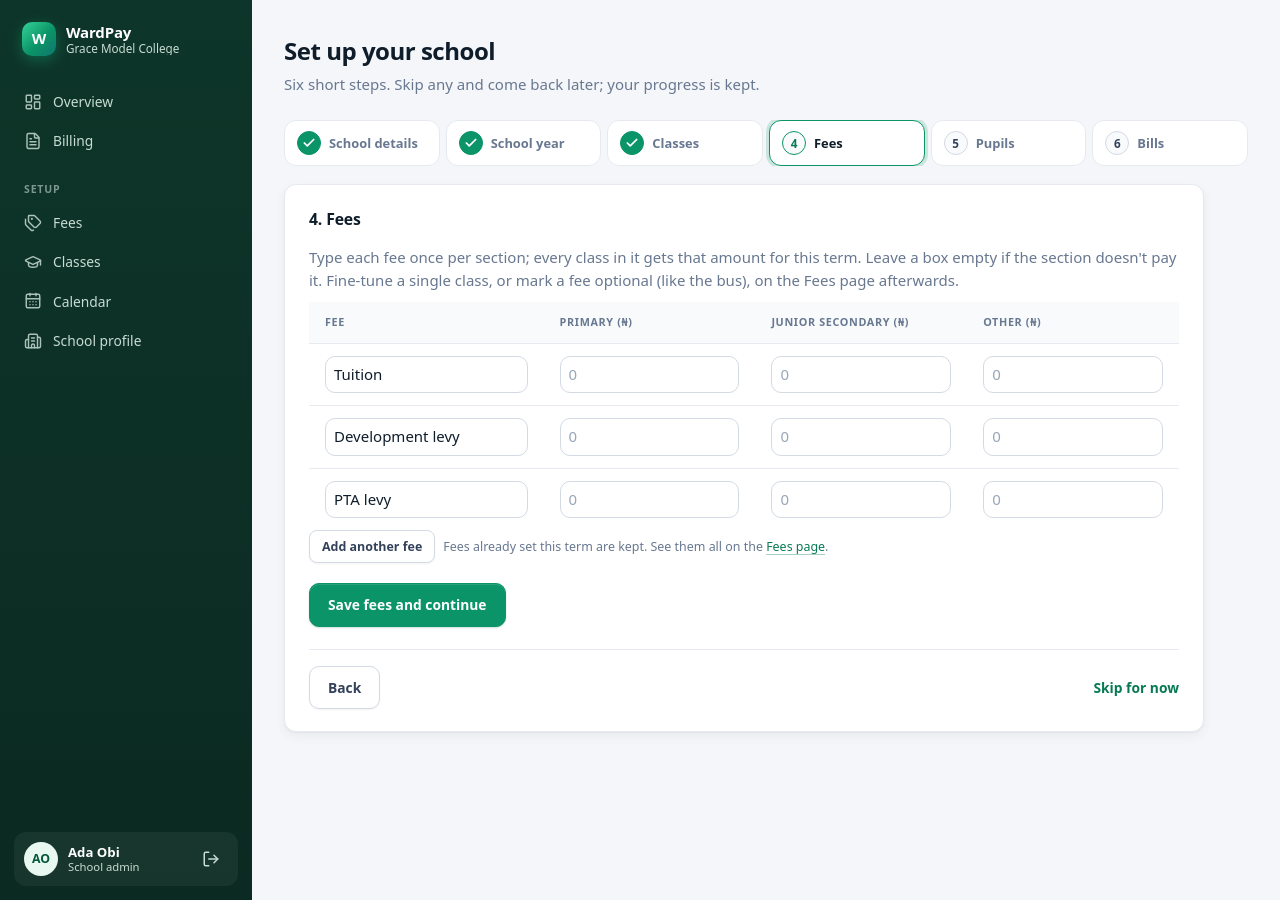
Test case: set-up wizard › opens on the first step not done and sets fees once per section for every class in it
The width and height of the screenshot is (1280, 900).
Expected: the heading "4. Fees" is shown, [309,208,361,230]
In the field named "Tuition for Primary": (650, 375) [560,356,739,393], type "120000"
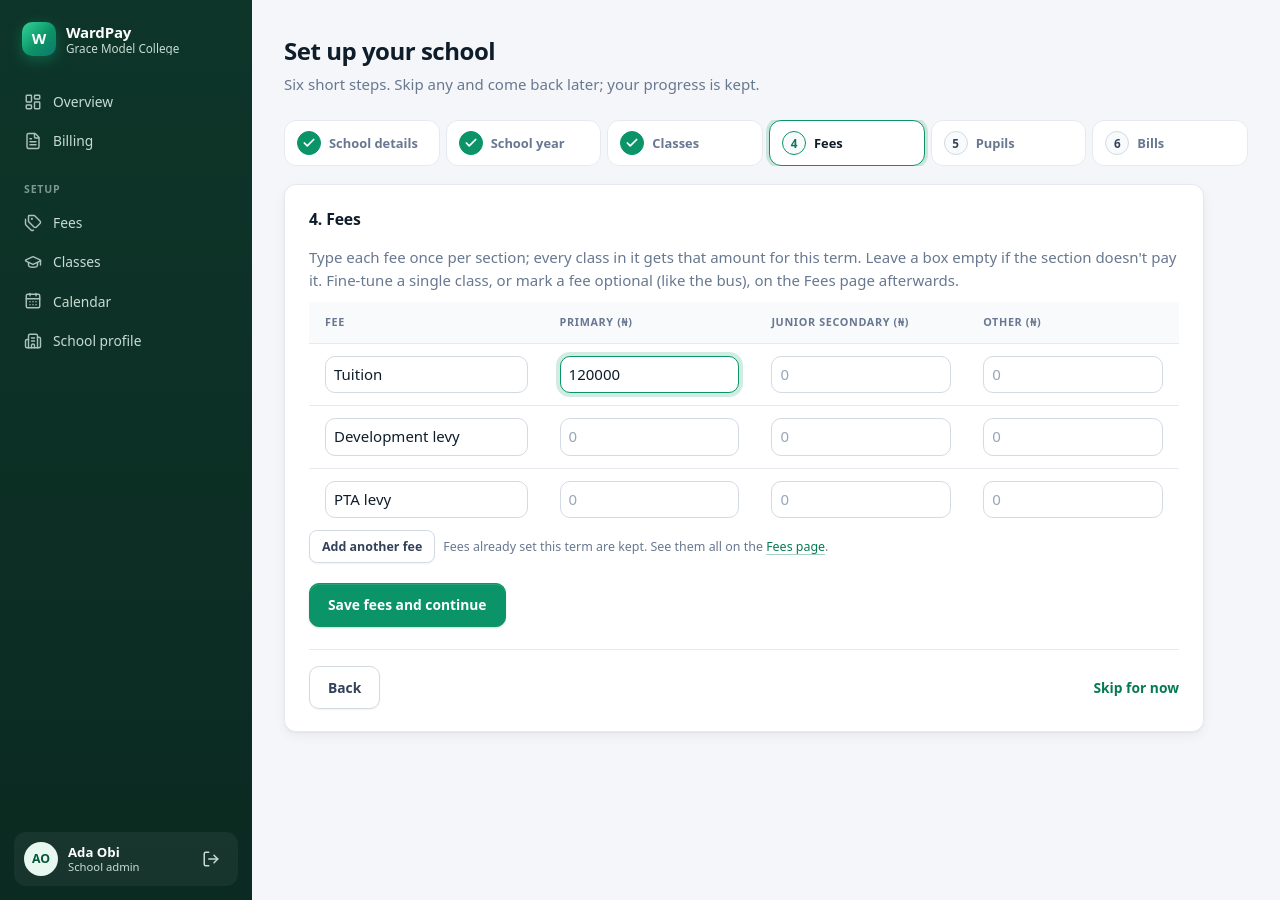
In the field named "Tuition for Junior secondary": (861, 375) [771,356,951,393], type "150000"
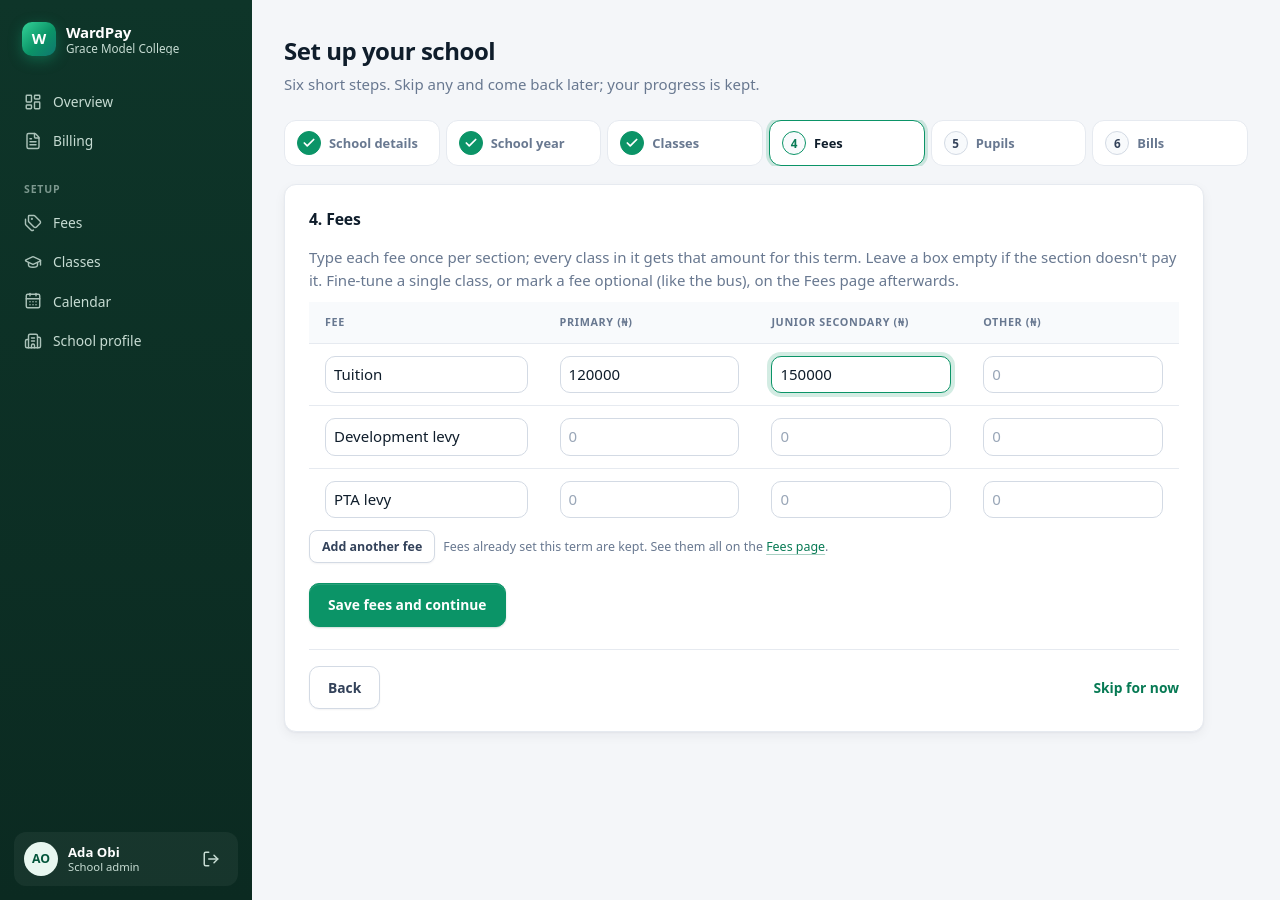
In the field named "PTA levy for Other": (1073, 499) [983,481,1163,518], type "5000"
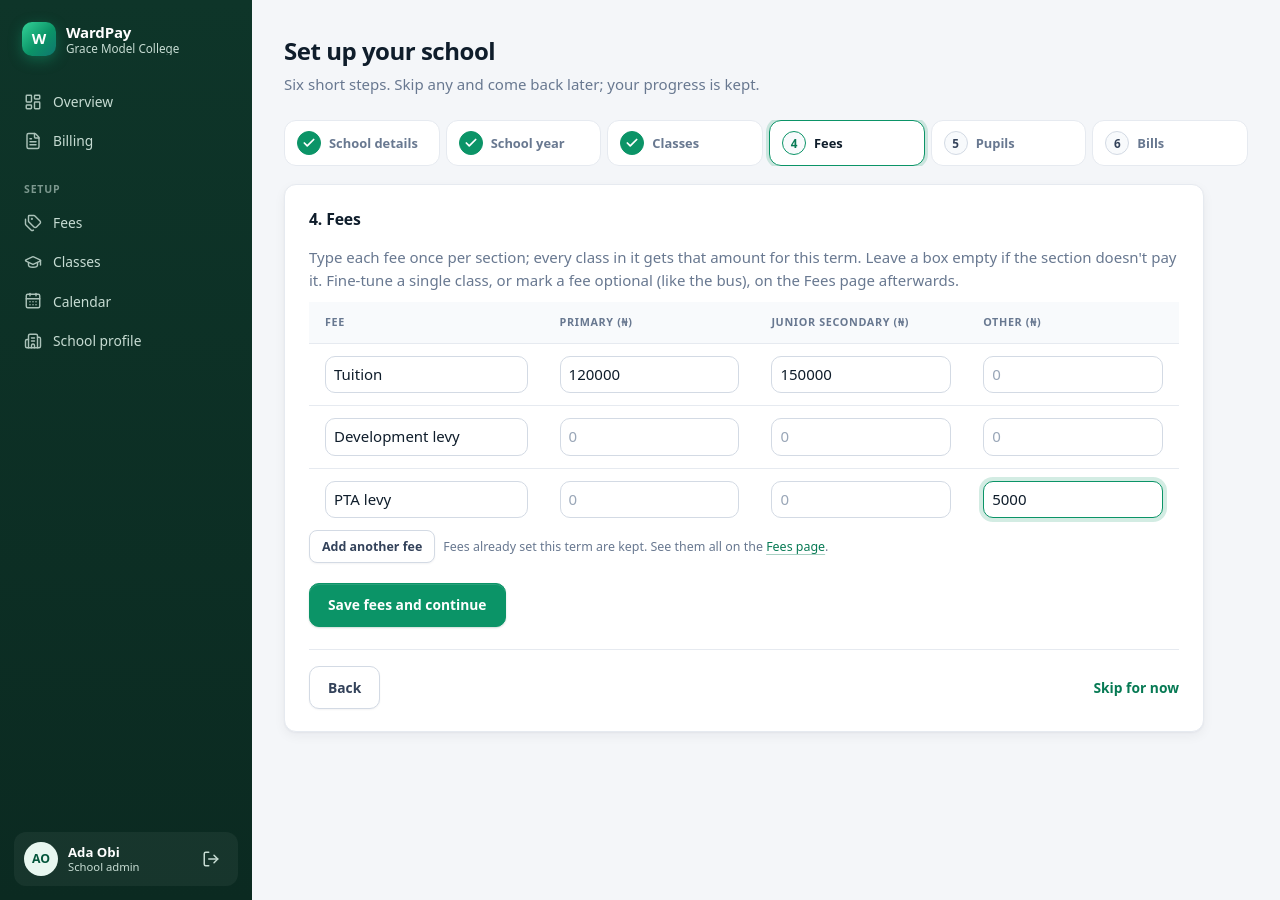
Click the button "Save fees and continue": (407, 605) [309,583,506,626]
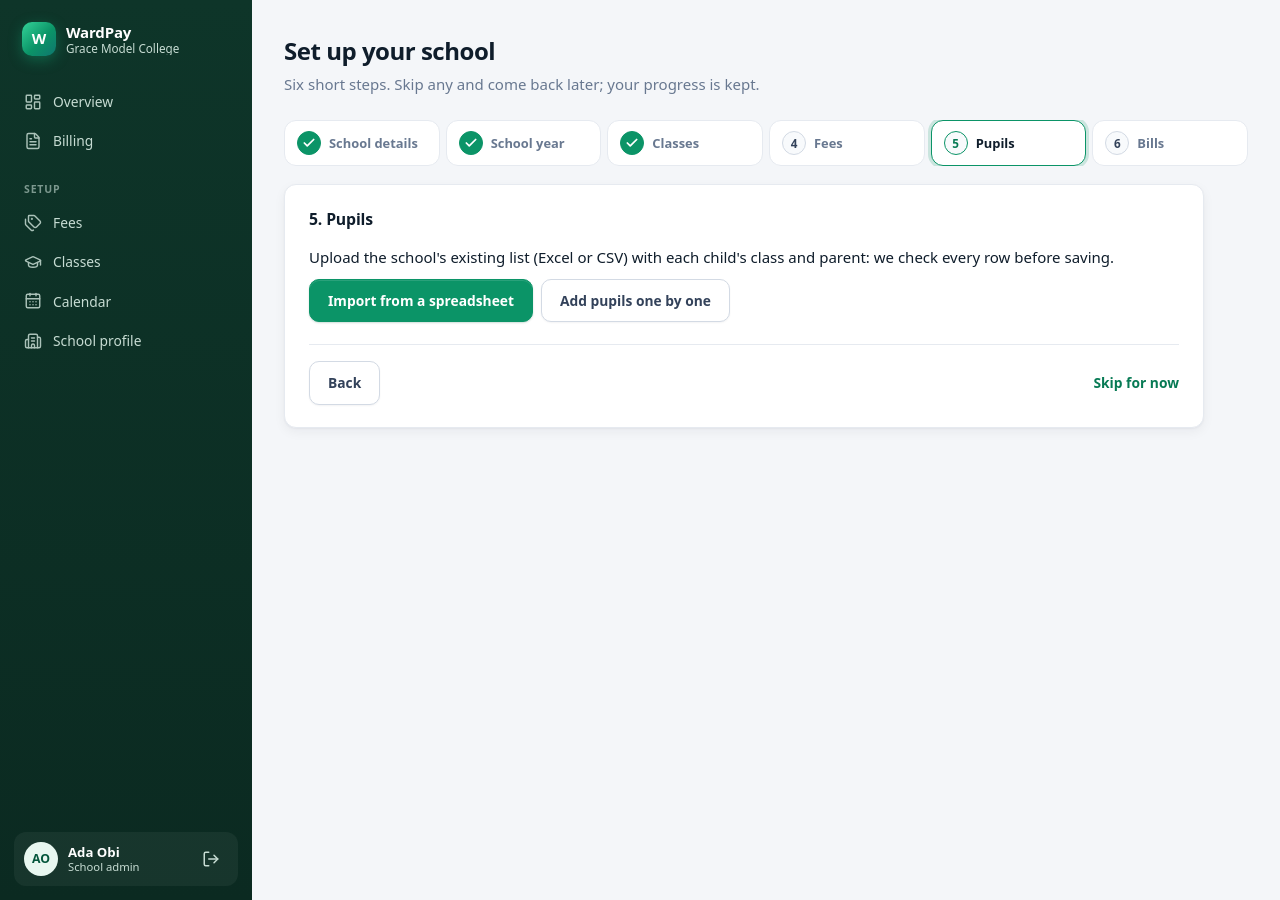
Expected: the heading "5. Pupils" is shown, [309,208,373,230]
